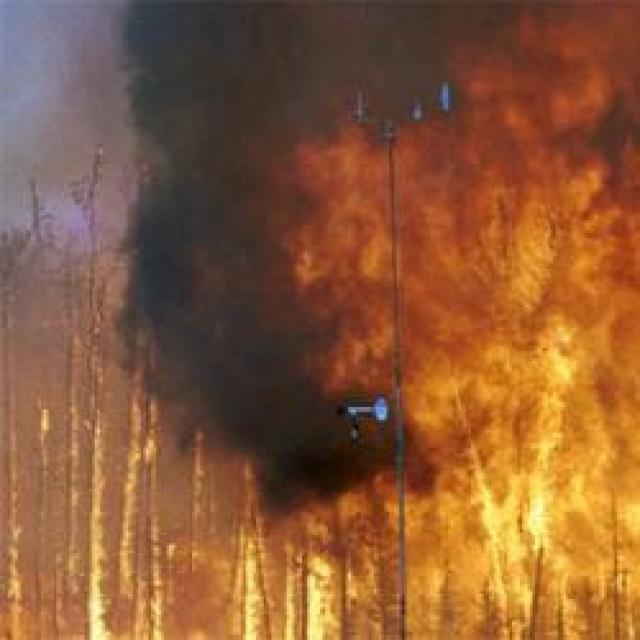Fire: (397, 0, 640, 640), (37, 385, 631, 628)
Smoke: (153, 43, 356, 476), (96, 5, 343, 360)
